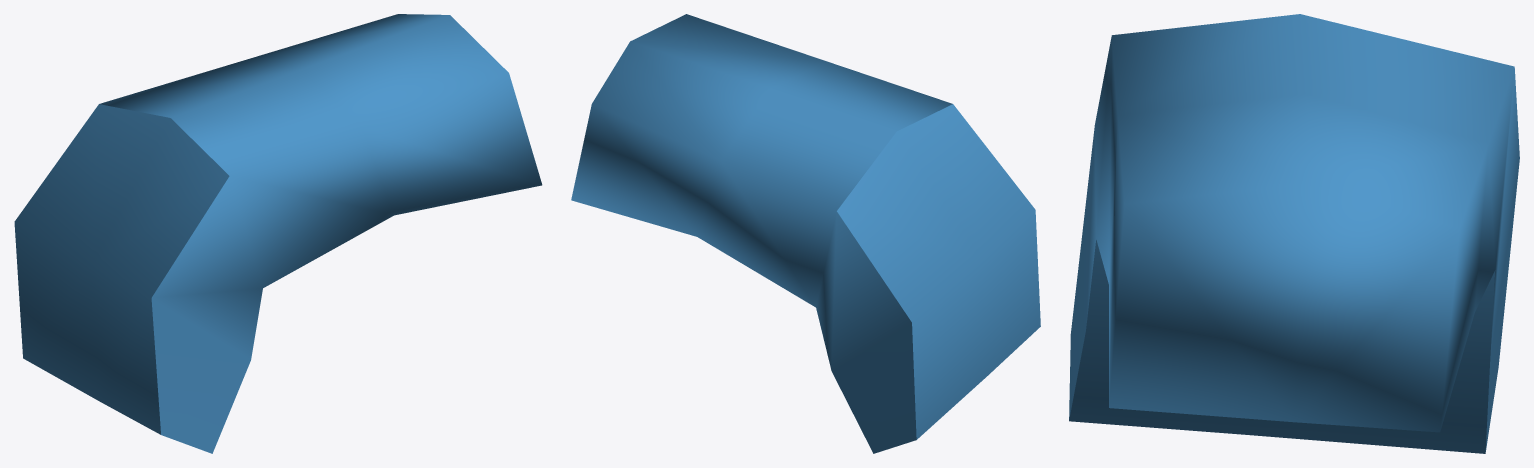
The model's file is Driver_Hand.fbx.
3 renders of one model, left to right at view 1: azimuth 30°, elevation 25°; view 2: azimuth 150°, elevation 25°; view 3: azimuth 270°, elevation 25°, orthographic. The views are drawn at different scales.
Parts seen in each view (by area): view 1: Driver_Hand; view 2: Driver_Hand; view 3: Driver_Hand.
Boxes of the visible parts, x1,y1,x2,y2 form: Driver_Hand: (14, 14, 542, 453); Driver_Hand: (571, 14, 1040, 453); Driver_Hand: (1069, 14, 1519, 453).
Bounding box in the file's own units: 13 × 10.23 × 8.12.
